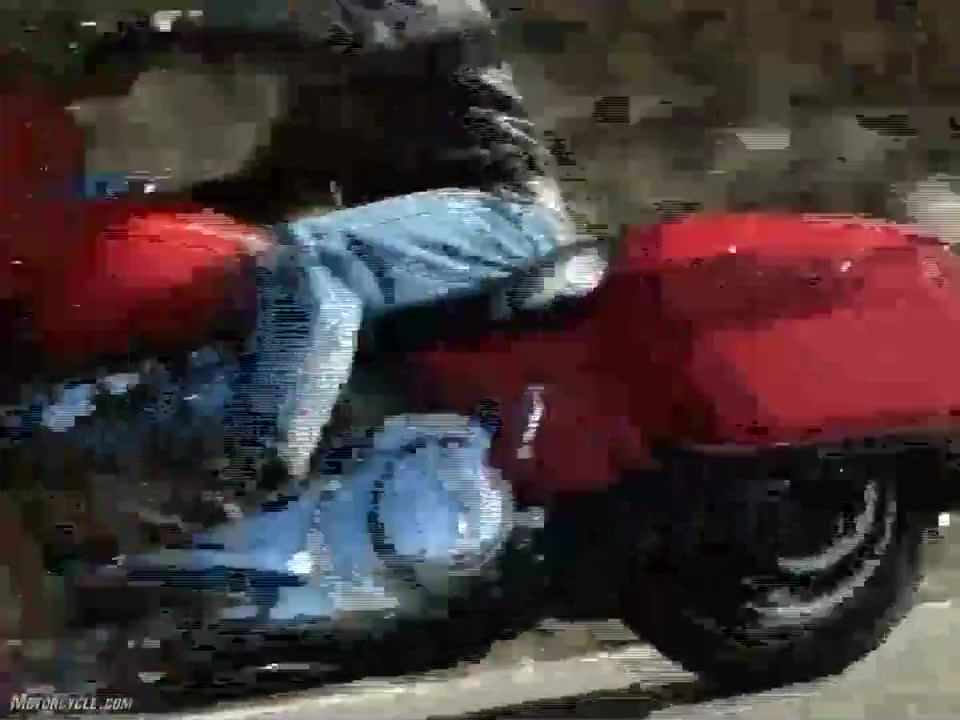motorbike: (3, 40, 960, 704)
